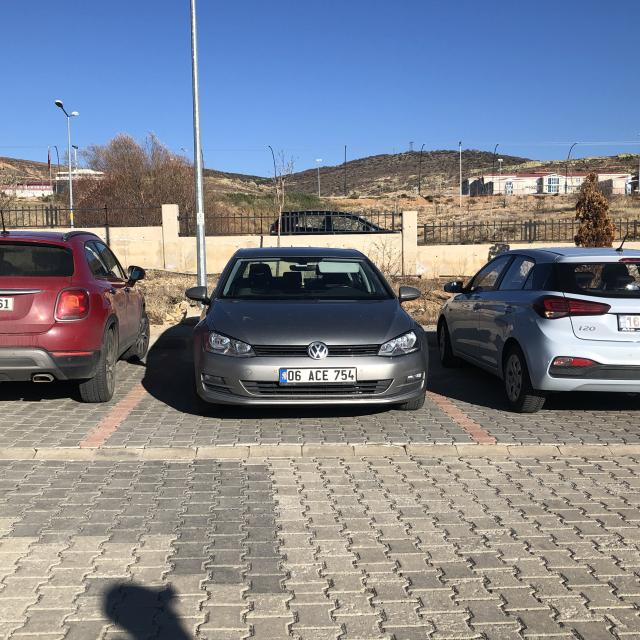license_plate: (280, 369, 358, 383), (616, 314, 640, 329)
